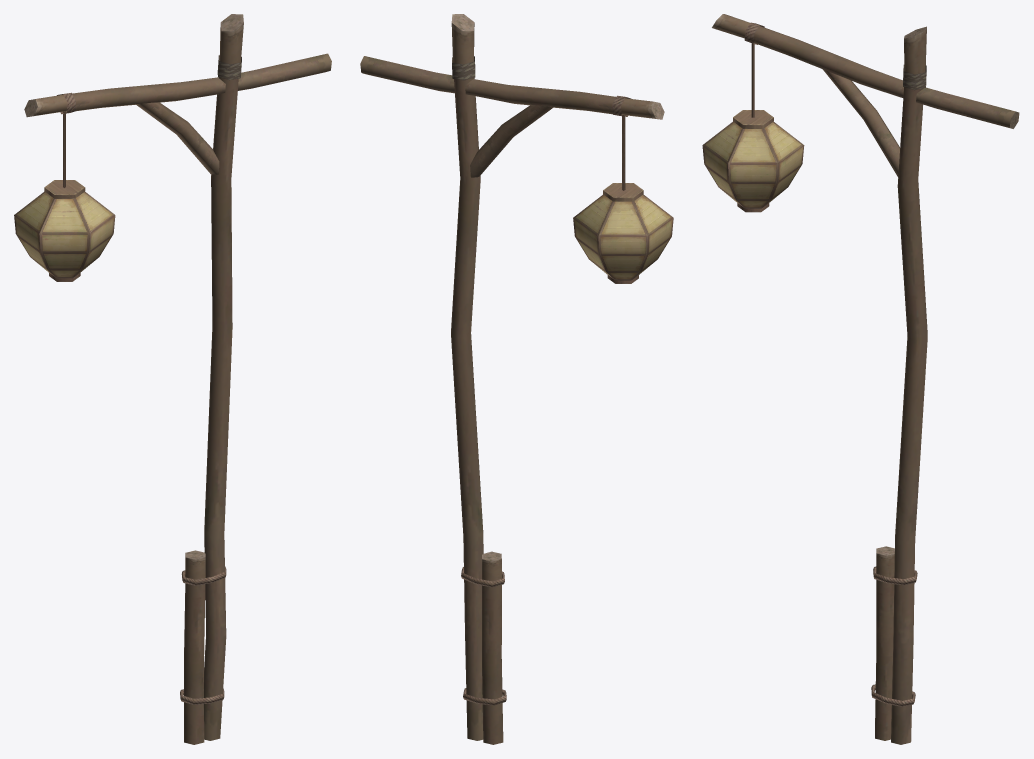
Rendered from Homeworld_Exterior_Dq_Lamp_Lightrigged_02_Vo.fbx.
3 views of the same model, side by side, from view 1: azimuth 30°, elevation 25°; view 2: azimuth 150°, elevation 25°; view 3: azimuth 330°, elevation 25° (orthographic).
Visible parts, largest first — view 1: Area_Dq_Light_Common_Woodlamp_02_01_Lightrigged_Vo, Area_Dq_Light_Common_Woodlamp_02_02_Lightrigged_Vo; view 2: Area_Dq_Light_Common_Woodlamp_02_01_Lightrigged_Vo, Area_Dq_Light_Common_Woodlamp_02_02_Lightrigged_Vo; view 3: Area_Dq_Light_Common_Woodlamp_02_01_Lightrigged_Vo, Area_Dq_Light_Common_Woodlamp_02_02_Lightrigged_Vo.
Boxes of the visible parts, box(x1,y1,x2,y2) form: Area_Dq_Light_Common_Woodlamp_02_01_Lightrigged_Vo: box(24, 14, 331, 744); Area_Dq_Light_Common_Woodlamp_02_02_Lightrigged_Vo: box(14, 111, 115, 281); Area_Dq_Light_Common_Woodlamp_02_01_Lightrigged_Vo: box(360, 14, 664, 744); Area_Dq_Light_Common_Woodlamp_02_02_Lightrigged_Vo: box(573, 115, 673, 283); Area_Dq_Light_Common_Woodlamp_02_01_Lightrigged_Vo: box(712, 14, 1019, 744); Area_Dq_Light_Common_Woodlamp_02_02_Lightrigged_Vo: box(702, 43, 804, 212).
Bounding box in the file's own units: 2.42 × 5.52 × 0.7074.
